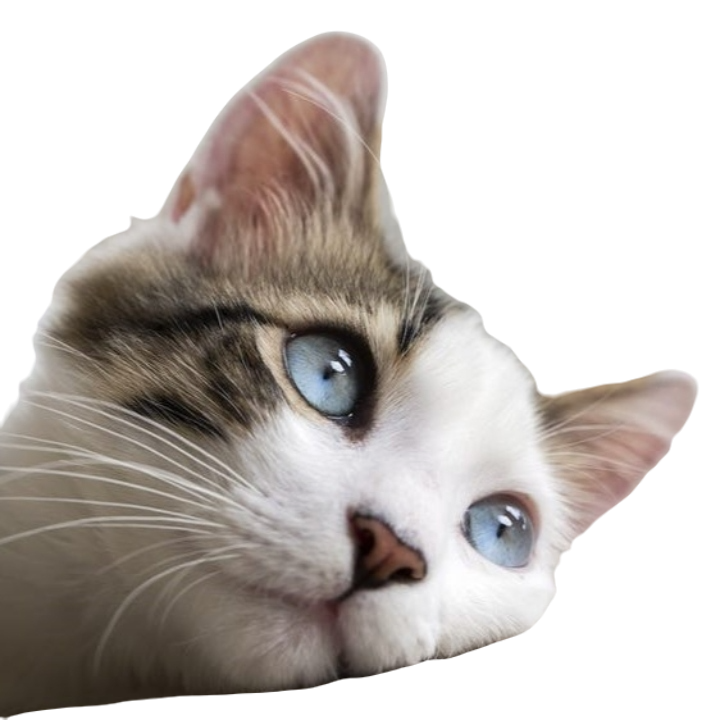Cat: (0, 24, 700, 719)
